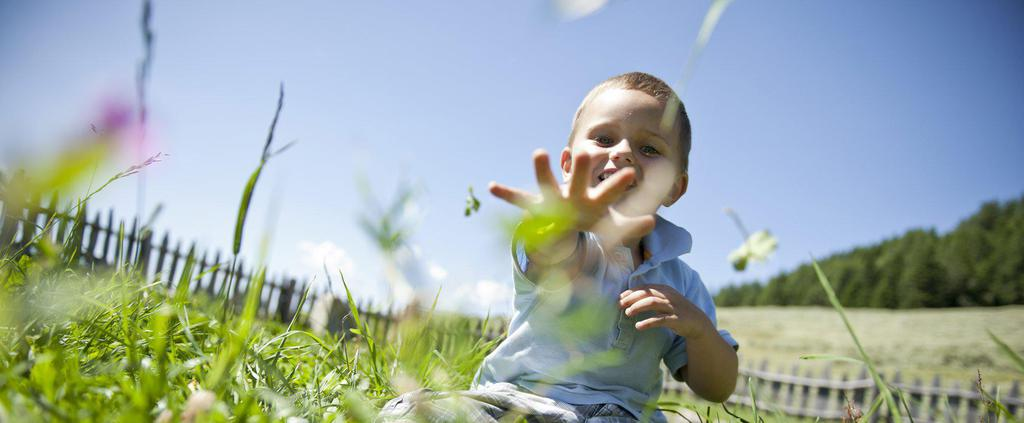child: (387, 61, 750, 423)
